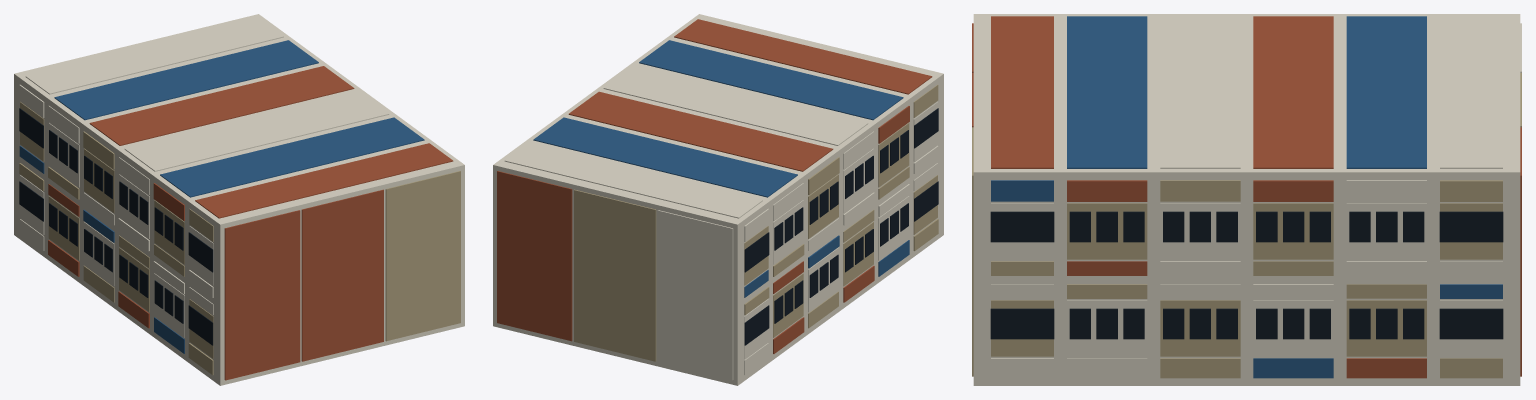
The model's file is pax100_shell.obj.
3 renders of one model, left to right at view 1: azimuth 30°, elevation 25°; view 2: azimuth 150°, elevation 25°; view 3: azimuth 270°, elevation 25°, orthographic. The views are drawn at different scales.
Visible parts, largest first — view 1: pax100_shell; view 2: pax100_shell; view 3: pax100_shell.
Part boxes in pixels (x1=…): pax100_shell: x1=14, y1=14, x2=464, y2=385; pax100_shell: x1=493, y1=14, x2=943, y2=385; pax100_shell: x1=972, y1=14, x2=1521, y2=385.
Bounding box in the file's own units: 7.07 × 4.46 × 10.27.
